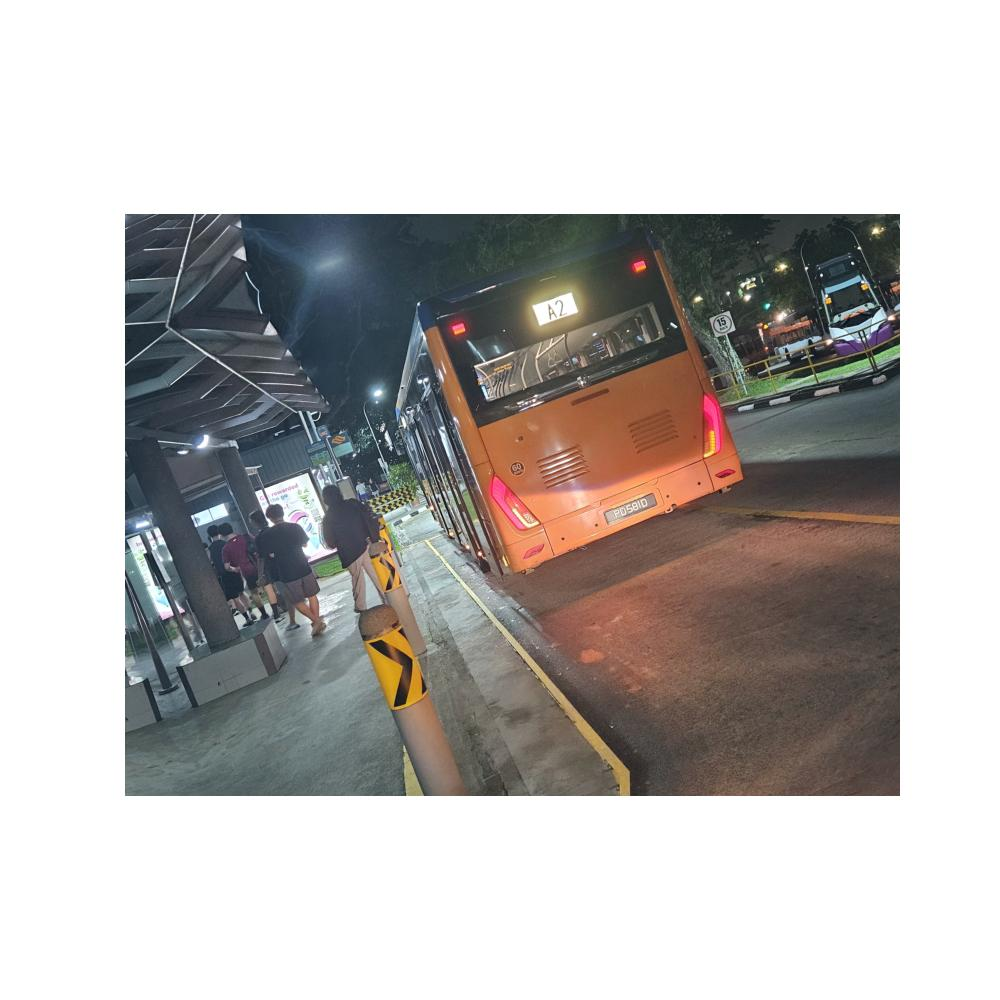bus: (383, 233, 748, 579)
